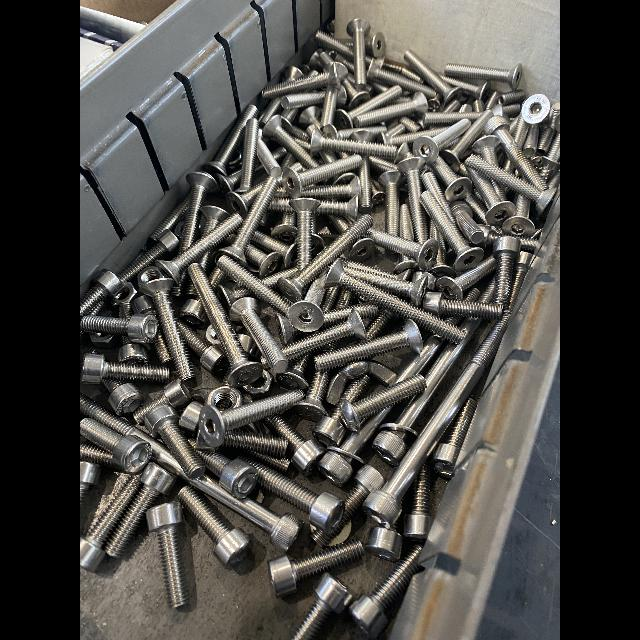Stainless Steel: (80, 392, 303, 552), (362, 309, 510, 531), (372, 317, 483, 466), (325, 259, 465, 343), (188, 263, 263, 386), (276, 215, 374, 301), (238, 455, 343, 531), (105, 461, 177, 558), (80, 475, 143, 572), (198, 390, 303, 447), (316, 406, 391, 485), (466, 152, 558, 215), (310, 465, 382, 545), (179, 486, 250, 567), (218, 175, 279, 267), (314, 320, 422, 370), (269, 540, 364, 596), (349, 560, 417, 638), (419, 191, 483, 271), (156, 219, 238, 281), (483, 115, 549, 190), (147, 278, 195, 381), (339, 374, 425, 431), (215, 254, 290, 319), (144, 404, 205, 479), (147, 502, 190, 608), (231, 297, 288, 375), (281, 307, 366, 358), (261, 413, 327, 476), (203, 104, 260, 175), (80, 419, 152, 474), (293, 573, 352, 640), (313, 377, 368, 445), (431, 398, 476, 480), (282, 154, 362, 198), (439, 109, 493, 173), (344, 265, 429, 305), (404, 49, 464, 105), (118, 230, 180, 284), (326, 360, 397, 404), (336, 85, 402, 130), (176, 318, 229, 374), (179, 172, 216, 252), (465, 166, 515, 225), (131, 295, 173, 364), (434, 256, 497, 302), (311, 124, 396, 158), (263, 115, 318, 167), (199, 452, 258, 500), (263, 61, 340, 97), (132, 379, 192, 425), (353, 92, 427, 129), (367, 59, 437, 98), (81, 352, 169, 383), (398, 157, 429, 244), (390, 335, 443, 385), (414, 119, 470, 165), (287, 197, 321, 270), (288, 272, 328, 333), (422, 169, 459, 234), (81, 313, 158, 344), (489, 238, 523, 306), (444, 64, 524, 92), (80, 269, 121, 320), (422, 292, 502, 318), (403, 463, 430, 540), (426, 217, 458, 278), (150, 194, 191, 241), (432, 156, 472, 202), (234, 117, 258, 193), (476, 224, 538, 251), (224, 431, 288, 457), (340, 257, 412, 280), (297, 371, 329, 422), (378, 169, 402, 236), (347, 18, 370, 87), (251, 231, 295, 267), (106, 378, 144, 417), (450, 201, 484, 244), (439, 75, 493, 101), (301, 175, 362, 198), (228, 181, 263, 221), (502, 195, 535, 237), (323, 303, 378, 327), (378, 127, 447, 146), (275, 355, 311, 391), (245, 244, 283, 278), (510, 251, 531, 312), (367, 527, 403, 562), (257, 129, 282, 179), (314, 194, 357, 222), (316, 31, 353, 63), (197, 384, 242, 410), (245, 450, 290, 473), (118, 335, 150, 366), (218, 284, 256, 310), (323, 125, 387, 140), (80, 442, 115, 469), (80, 461, 101, 504), (521, 94, 550, 125), (471, 135, 500, 166), (201, 205, 229, 237), (342, 77, 370, 109), (423, 111, 485, 125), (533, 155, 559, 188), (179, 400, 203, 434), (320, 82, 337, 130), (281, 92, 325, 110), (264, 266, 297, 290), (271, 214, 297, 244), (180, 299, 207, 327), (245, 368, 273, 395), (367, 311, 393, 340), (215, 168, 240, 197), (110, 281, 137, 307), (258, 98, 282, 127), (464, 196, 488, 225), (137, 265, 167, 288), (309, 49, 340, 71), (275, 312, 295, 346), (359, 157, 371, 212), (349, 238, 376, 262), (399, 200, 414, 241), (477, 273, 496, 303), (283, 120, 308, 142), (299, 104, 321, 129), (364, 32, 385, 58), (523, 124, 539, 158), (512, 114, 528, 148), (195, 429, 216, 453), (394, 255, 423, 272), (327, 215, 351, 234), (370, 157, 400, 172), (538, 126, 554, 154), (237, 333, 256, 356), (412, 270, 435, 289), (208, 267, 224, 294), (324, 287, 342, 311), (337, 55, 353, 82), (269, 196, 294, 213), (89, 333, 119, 347), (488, 178, 507, 200), (547, 131, 560, 163), (172, 270, 188, 296), (398, 114, 422, 131), (547, 102, 560, 132), (198, 250, 212, 277), (499, 90, 524, 105), (282, 66, 305, 82), (372, 178, 385, 204), (311, 231, 325, 255), (402, 69, 424, 84), (425, 93, 442, 112), (336, 289, 351, 309), (385, 124, 406, 138), (87, 299, 105, 315), (227, 153, 242, 172), (319, 151, 339, 165), (441, 100, 462, 113), (206, 325, 220, 344), (369, 81, 391, 93), (281, 108, 298, 123), (464, 287, 481, 302), (502, 104, 520, 117), (501, 154, 514, 172), (364, 56, 385, 67), (281, 154, 295, 170), (120, 302, 133, 319), (486, 92, 499, 109), (271, 147, 287, 160), (473, 99, 486, 114), (174, 221, 184, 238), (253, 158, 262, 175), (187, 277, 195, 296), (306, 121, 314, 140), (508, 118, 518, 131), (275, 187, 287, 197), (261, 356, 270, 369), (336, 151, 350, 159), (291, 163, 302, 173), (459, 104, 471, 113), (80, 325, 86, 342), (307, 69, 320, 76)
